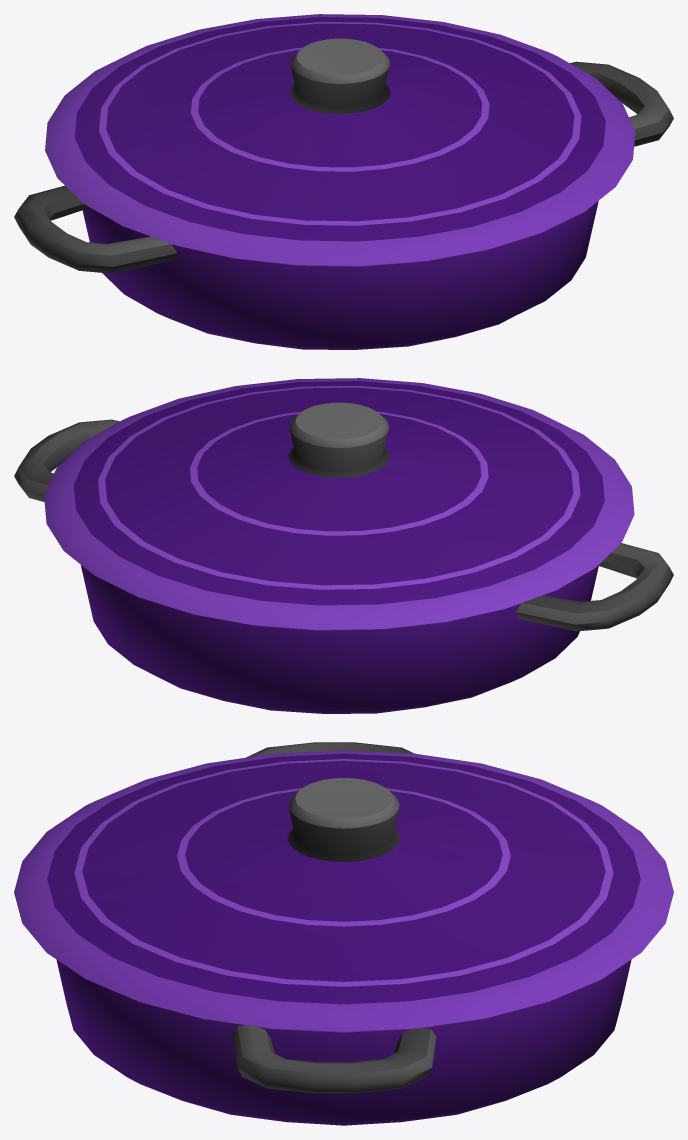
Rendered from Pan_6.fbx.
3 views of the same model, one above another, from view 1: azimuth 30°, elevation 25°; view 2: azimuth 150°, elevation 25°; view 3: azimuth 270°, elevation 25° (orthographic). The views are drawn at different scales.
Visible parts, largest first — view 1: Pan_6 Top, Pan_6; view 2: Pan_6 Top, Pan_6; view 3: Pan_6 Top, Pan_6.
Part boxes in pixels (box(x1,y1,x2,y2)): Pan_6 Top: box(45, 14, 635, 266); Pan_6: box(14, 61, 673, 349); Pan_6 Top: box(44, 378, 634, 630); Pan_6: box(14, 419, 673, 713); Pan_6 Top: box(14, 750, 673, 1032); Pan_6: box(56, 742, 631, 1125).
Bounding box in the file's own units: 0.3434 × 0.1038 × 0.2855.
Materials: 1 (1 with a texture image).
